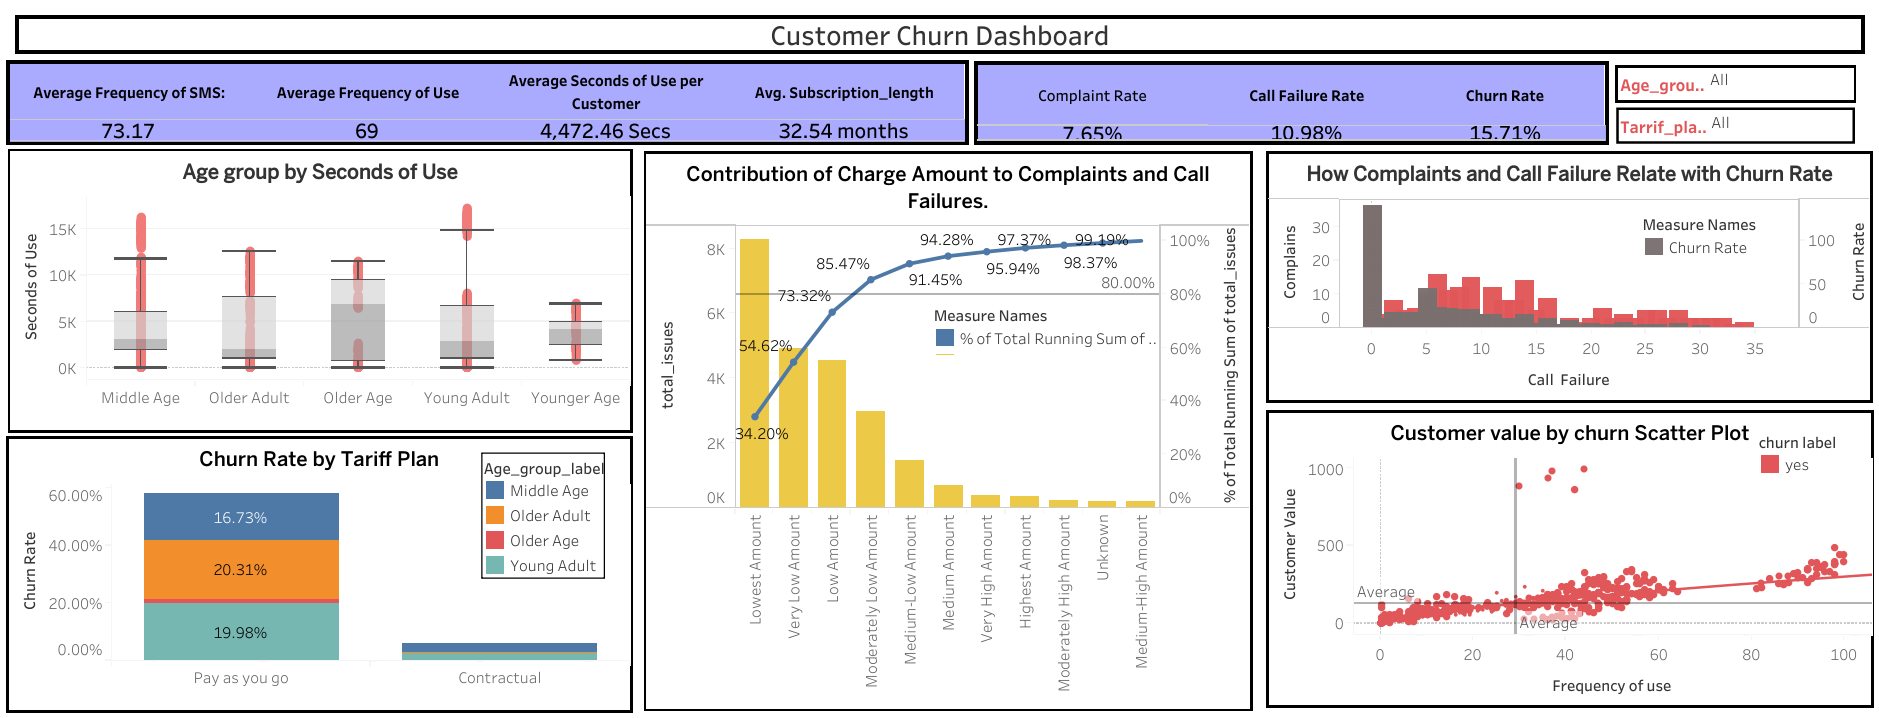

Layout of this report page (visuals, bound fields, positions):
{"tool":"tableau","page":{"name":"Dashboard 1","canvas":[1000,1000],"units":"permille","ordinal":0},"visuals":[{"type":"title","box":[4.8,9.3,990.3,59.2]},{"type":"worksheet","title":"Sheet 5 (3)","mark":"Automatic","rows":["Calculation_1555712198778982411"],"box":[517.8,73.2,335.6,130.1]},{"type":"worksheet","title":"Sheet 5 (2)","mark":"Automatic","box":[3,75.5,512.4,126.6]},{"type":"filter","title":"Sheet 2","param":"[federated.09p12um1xqyou818iqphj150n7il].[none:Calculation_1555712198738903042:n","box":[855.8,76.7,137.6,51.1]},{"type":"filter","title":"Sheet 2","param":"[federated.09p12um1xqyou818iqphj150n7il].[none:Calculation_1555712198738243585:n","box":[863,139.4,126.7,49.9]},{"type":"worksheet","title":"Pareto","mark":"Bar","rows":["Calculation_1555712199065640980","Calculation_1555712199065640980"],"cols":["Calculation_1555712198768906247"],"box":[337.4,204.4,332.5,786.3]},{"type":"worksheet","title":"Sheet 7","mark":"Bar","rows":["Complains","Calculation_1555712198772727816"],"cols":["Call  Failure"],"box":[673.5,204.4,322.3,355.4]},{"type":"worksheet","title":"Sheet 4","mark":"Circle","rows":["Seconds of Use"],"cols":["Calculation_1555712198738903042"],"box":[4.2,206.7,332.5,394.9]},{"type":"legend","title":"Sheet 7","param":"[federated.09p12um1xqyou818iqphj150n7il].[:Measure Names]","box":[873.3,291.5,74.2,74.3]},{"type":"legend","title":"Pareto","param":"[federated.09p12um1xqyou818iqphj150n7il].[:Measure Names]","box":[495.8,419.3,122.9,74.3]},{"type":"worksheet","title":"Sheet 3","mark":"Circle","rows":["Customer Value"],"cols":["Frequency of use"],"box":[673.5,559.8,323.5,425.1]},{"type":"legend","title":"Sheet 3","param":"[federated.09p12um1xqyou818iqphj150n7il].[none:Calculation_1555712199460417574:n","box":[934.8,594.7,59.1,74.3]},{"type":"worksheet","title":"Sheet 2","mark":"Automatic","rows":["Calculation_1555712198772727816"],"cols":["Calculation_1555712198738243585"],"box":[3.6,606.3,333.1,384.4]},{"type":"legend","title":"Sheet 2","param":"[federated.09p12um1xqyou818iqphj150n7il].[none:Calculation_1555712198738903042:n","box":[255.9,628.3,65.8,147.5]}]}

Visuals, with their boxes on the dashboard's canvas, which has no fixed pixel size, in thousandths of its width and height (x1, y1, x2, y2). These are canvas units, not pixel positions in the 1879x718 screenshot, which may show the page scaled, cropped or inside an application window:
title: [x1=5, y1=9, x2=995, y2=68]
"Sheet 5 (3)" worksheet: [x1=518, y1=73, x2=853, y2=203]
"Sheet 5 (2)" worksheet: [x1=3, y1=76, x2=515, y2=202]
"Sheet 2" filter: [x1=856, y1=77, x2=993, y2=128]
"Sheet 2" filter: [x1=863, y1=139, x2=990, y2=189]
"Pareto" worksheet (Bar marks): [x1=337, y1=204, x2=670, y2=991]
"Sheet 7" worksheet (Bar marks): [x1=674, y1=204, x2=996, y2=560]
"Sheet 4" worksheet (Circle marks): [x1=4, y1=207, x2=337, y2=602]
"Sheet 7" legend: [x1=873, y1=292, x2=948, y2=366]
"Pareto" legend: [x1=496, y1=419, x2=619, y2=494]
"Sheet 3" worksheet (Circle marks): [x1=674, y1=560, x2=997, y2=985]
"Sheet 3" legend: [x1=935, y1=595, x2=994, y2=669]
"Sheet 2" worksheet: [x1=4, y1=606, x2=337, y2=991]
"Sheet 2" legend: [x1=256, y1=628, x2=322, y2=776]
